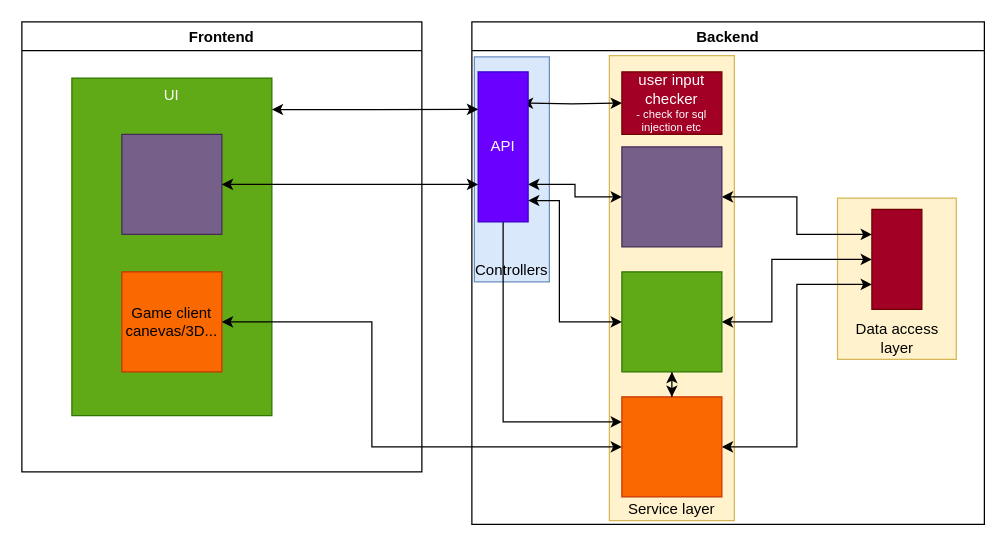
Image size: 1006x546. Some labels were removed from this diagram. Here are the shapes that lost their labels. From the top down, the centre of each, then its label:
At pixel 171 183: "Chat UI".
At pixel 671 196: "chat core manager - manage channels - DM - block users".
At pixel 896 258: "DB".
At pixel 671 321: "User manager - authentication - stats - profiles - matching - friends".
At pixel 671 446: "Game core server - serve the ball position etc - RO/RW management".
